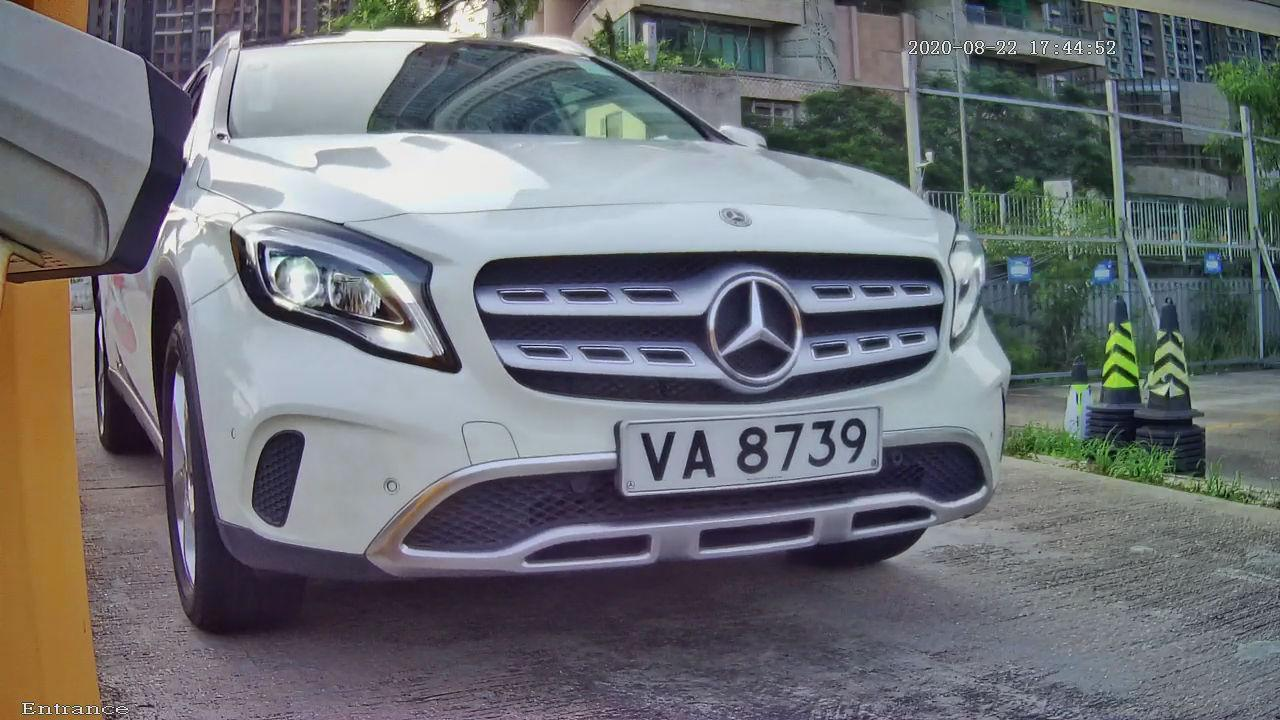Car: (23, 17, 1109, 637)
License Plate: (562, 375, 942, 529)
